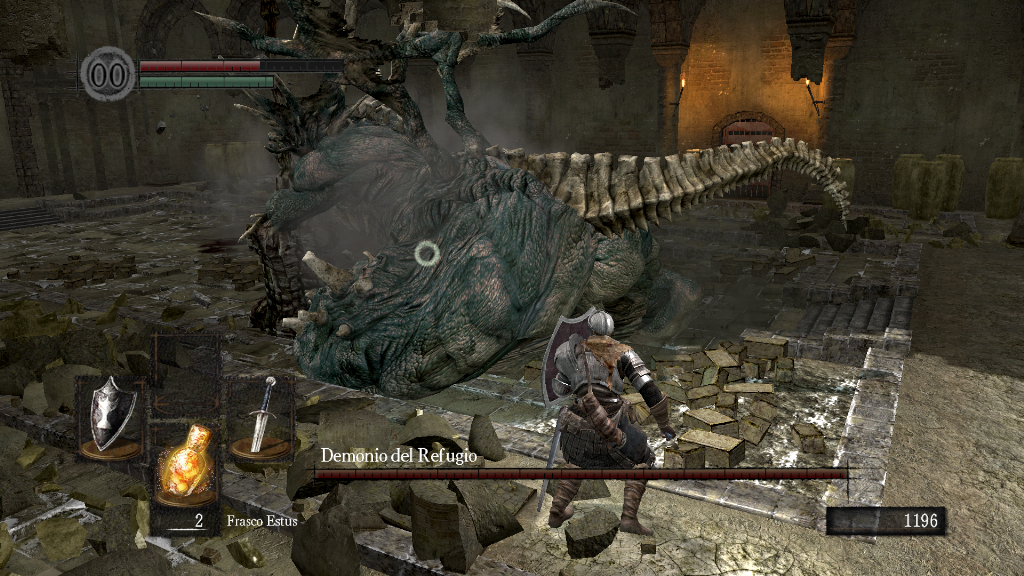asylumDemon: (192, 2, 855, 399)
bossHP: (314, 469, 847, 479)
health: (138, 58, 343, 71)
humanity: (80, 45, 136, 102)
player: (539, 306, 680, 537)
souls: (825, 506, 945, 536)
stamina: (138, 74, 274, 88)
